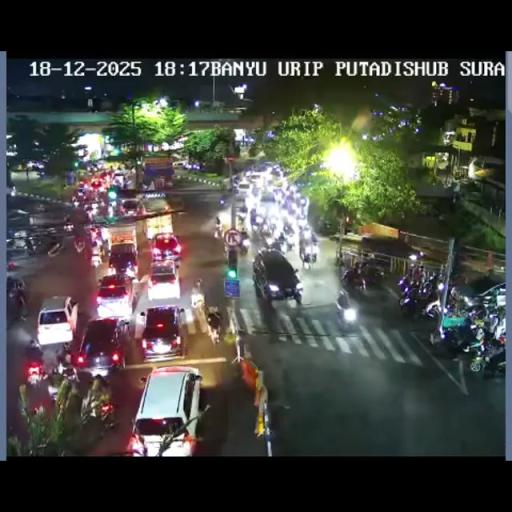Car: (130, 364, 202, 454), (74, 316, 128, 375), (252, 247, 302, 302), (139, 304, 187, 360), (36, 296, 78, 346), (96, 274, 134, 318), (146, 261, 182, 302), (107, 242, 139, 278), (150, 232, 182, 264), (141, 193, 170, 214), (120, 198, 143, 216), (258, 162, 280, 178), (236, 180, 252, 197), (112, 170, 128, 186), (259, 188, 276, 202), (171, 160, 188, 168)
Motorcycle: (399, 276, 442, 319), (466, 330, 505, 373), (438, 314, 480, 352), (264, 399, 290, 443), (25, 342, 46, 386), (54, 353, 80, 385), (334, 296, 357, 330), (6, 294, 28, 329), (481, 305, 502, 336), (98, 400, 118, 430), (342, 262, 364, 289), (6, 275, 26, 300), (206, 318, 222, 346), (407, 262, 424, 285), (46, 375, 60, 401), (190, 278, 204, 304), (244, 190, 259, 212), (116, 317, 130, 339), (298, 224, 312, 245), (262, 230, 276, 250), (274, 235, 288, 254), (299, 244, 311, 266), (24, 236, 38, 254), (238, 235, 250, 255), (90, 249, 102, 268), (250, 211, 262, 229), (218, 194, 230, 208), (214, 222, 223, 240), (235, 210, 245, 226), (222, 240, 230, 260), (309, 246, 317, 264), (86, 206, 95, 222), (335, 250, 344, 266), (62, 340, 72, 354), (484, 266, 494, 280), (62, 222, 74, 232), (108, 202, 114, 218), (36, 168, 45, 178), (72, 197, 80, 208)
